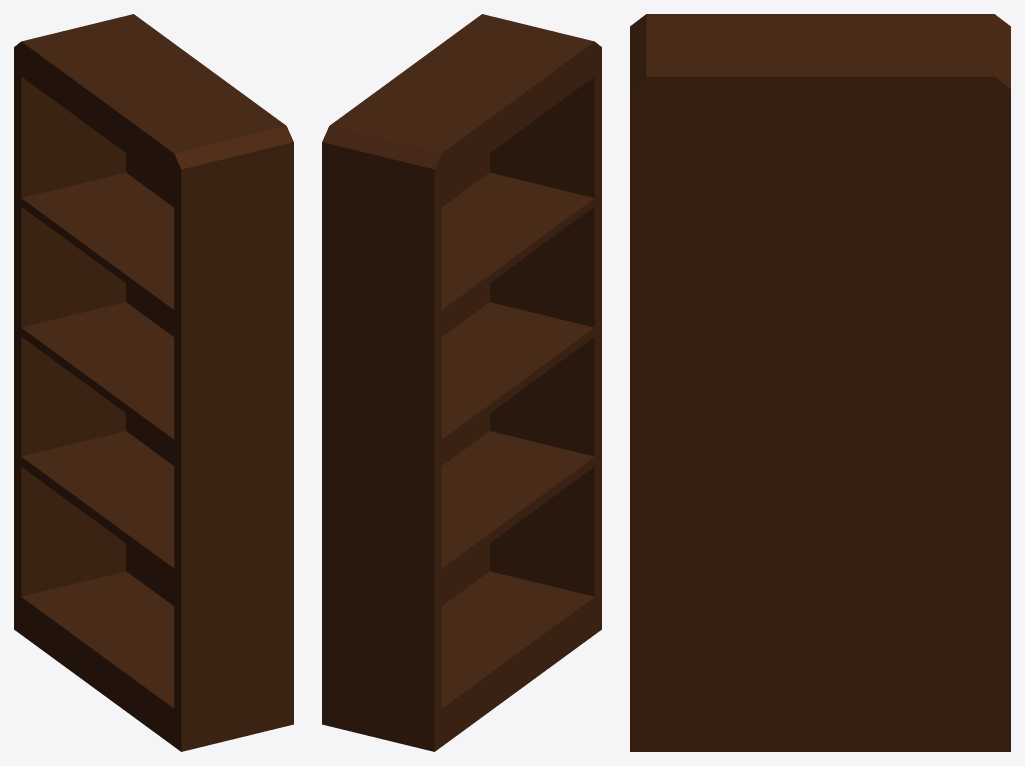
Rendered from bookCase.fbx.
3 views of the same model, side by side, from view 1: azimuth 30°, elevation 25°; view 2: azimuth 150°, elevation 25°; view 3: azimuth 270°, elevation 25° (orthographic). The views are drawn at different scales.
Visible parts, largest first — view 1: Bookcase; view 2: Bookcase; view 3: Bookcase.
Boxes of the visible parts, bbox=[...] form: Bookcase: bbox=[14, 14, 293, 751]; Bookcase: bbox=[322, 14, 601, 751]; Bookcase: bbox=[630, 14, 1010, 751].
Size of the model in its own units: 89.36 by 34.72 by 175.
